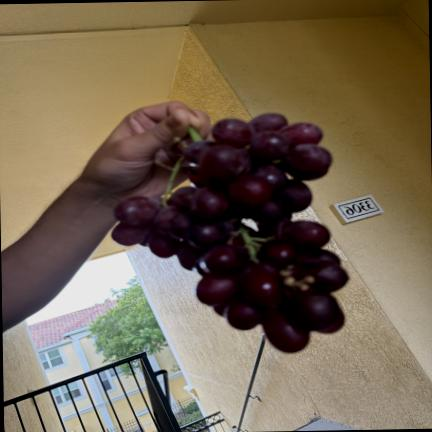grape_cluster: (111, 113, 347, 352)
